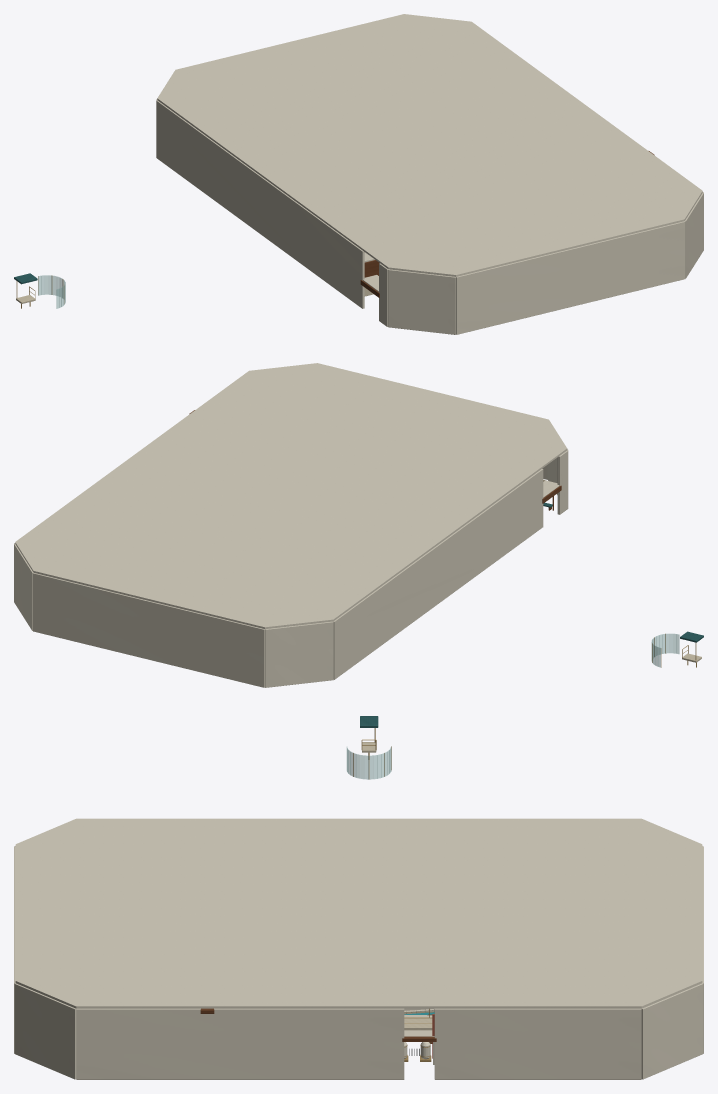
Rendered from AquaticCompletion_r014.glb.
3 views of the same model, one above another, from view 1: azimuth 30°, elevation 25°; view 2: azimuth 150°, elevation 25°; view 3: azimuth 270°, elevation 25° (orthographic). The views are drawn at different scales.
Parts seen in each view (by area): view 1: AQ6_BATCH_roof_asset_ASTRAEA_ivory_enamel, AQ6_BATCH_architecture_ASTRAEA_ivory_enamel, AQ6_BATCH_architecture_AQD_glass; view 2: AQ6_BATCH_roof_asset_ASTRAEA_ivory_enamel, AQ6_BATCH_architecture_ASTRAEA_ivory_enamel, AQ6_BATCH_architecture_AQD_glass; view 3: AQ6_BATCH_roof_asset_ASTRAEA_ivory_enamel, AQ6_BATCH_architecture_ASTRAEA_ivory_enamel, AQ6_BATCH_architecture_AQD_glass.
Boxes of the visible parts, x1,y1,x2,y2 form: AQ6_BATCH_roof_asset_ASTRAEA_ivory_enamel: [157, 14, 702, 276]; AQ6_BATCH_architecture_ASTRAEA_ivory_enamel: [156, 98, 703, 334]; AQ6_BATCH_architecture_AQD_glass: [38, 275, 65, 308]; AQ6_BATCH_roof_asset_ASTRAEA_ivory_enamel: [15, 363, 567, 629]; AQ6_BATCH_architecture_ASTRAEA_ivory_enamel: [14, 449, 568, 687]; AQ6_BATCH_architecture_AQD_glass: [651, 633, 679, 667]; AQ6_BATCH_roof_asset_ASTRAEA_ivory_enamel: [15, 818, 702, 1008]; AQ6_BATCH_architecture_ASTRAEA_ivory_enamel: [14, 846, 703, 1079]; AQ6_BATCH_architecture_AQD_glass: [346, 747, 391, 779].
Bounding box in the file's own units: 79.52 × 9.15 × 68.32.
19 materials, 16 textured.
